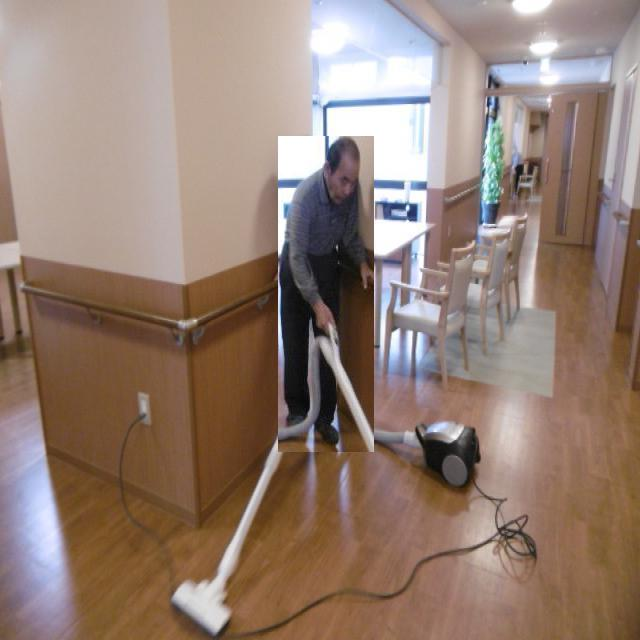direk: (278, 136, 374, 452)
